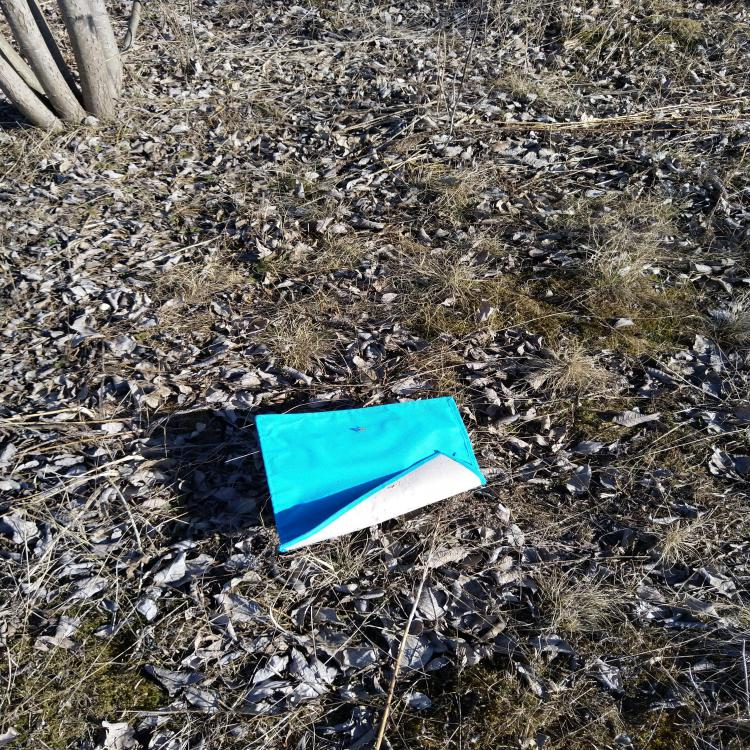Unlabeled litter: (254, 397, 487, 553)
